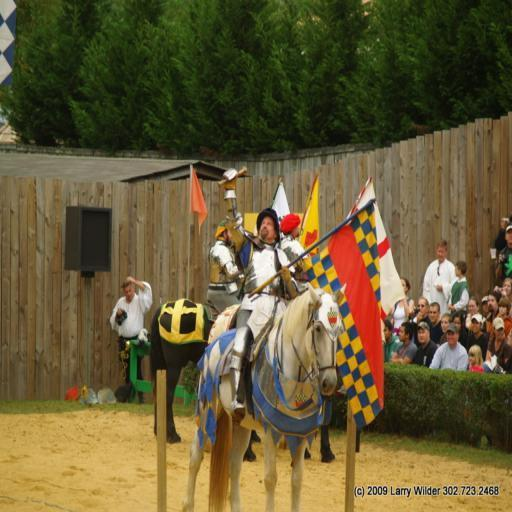horse: (181, 280, 348, 510), (208, 304, 336, 466), (148, 297, 221, 444)
